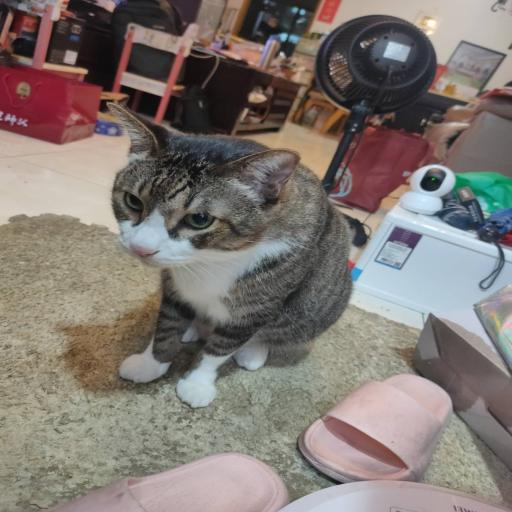cat: (116, 140, 328, 378)
